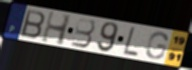9: (97, 22, 120, 54)
B: (20, 8, 47, 40), (70, 17, 96, 49)
G: (144, 31, 169, 60)
H: (40, 10, 73, 48)
L: (122, 26, 139, 58)
